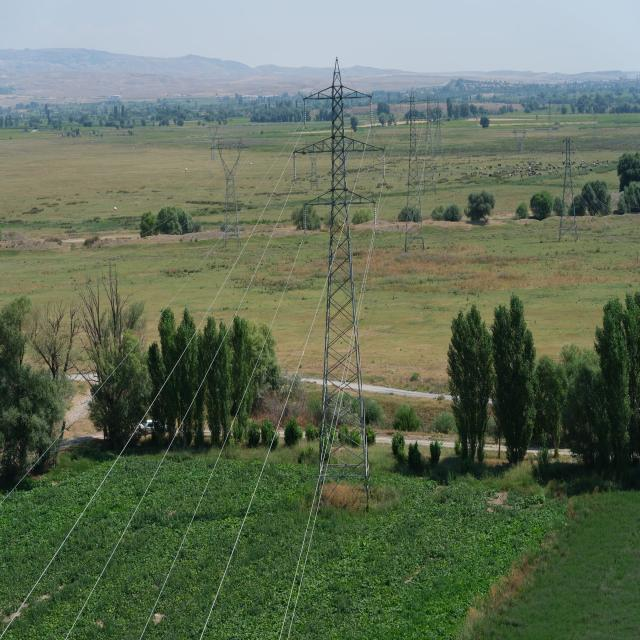direk: (316, 59, 374, 488), (402, 84, 428, 252), (209, 140, 246, 249), (559, 139, 580, 244)
